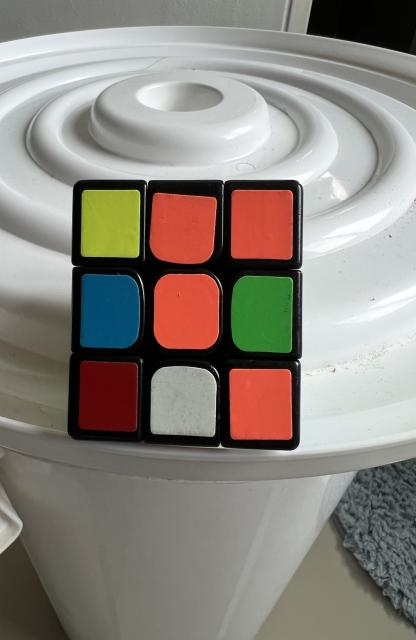Blue: (80, 274, 141, 349)
Green: (231, 275, 294, 352)
Orange: (154, 274, 220, 350), (150, 192, 217, 264), (231, 190, 294, 260), (230, 369, 292, 440)
Red: (78, 361, 138, 432)
White: (151, 366, 217, 438)
Yellow: (80, 190, 141, 258)
